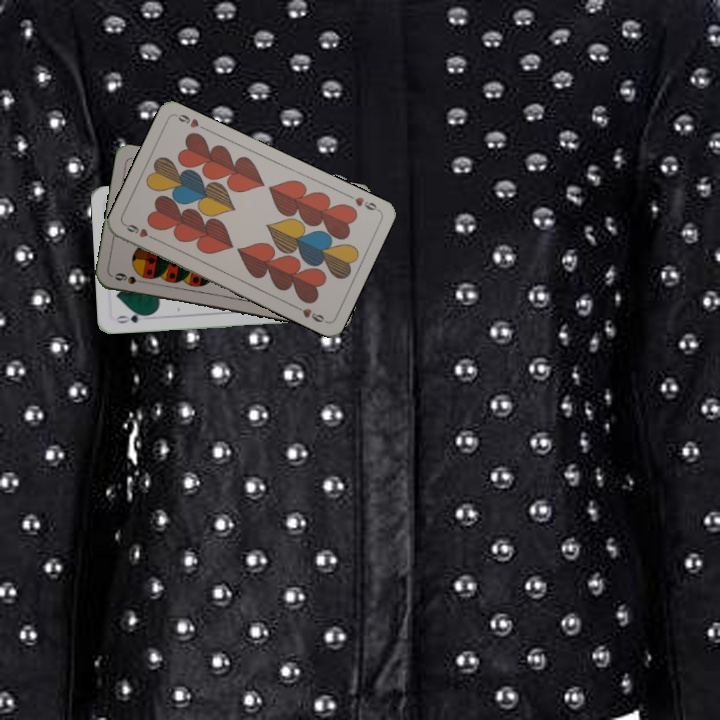GO: (113, 308, 152, 326)
H9: (343, 190, 381, 214), (121, 220, 159, 243)
S9: (111, 269, 150, 287)
